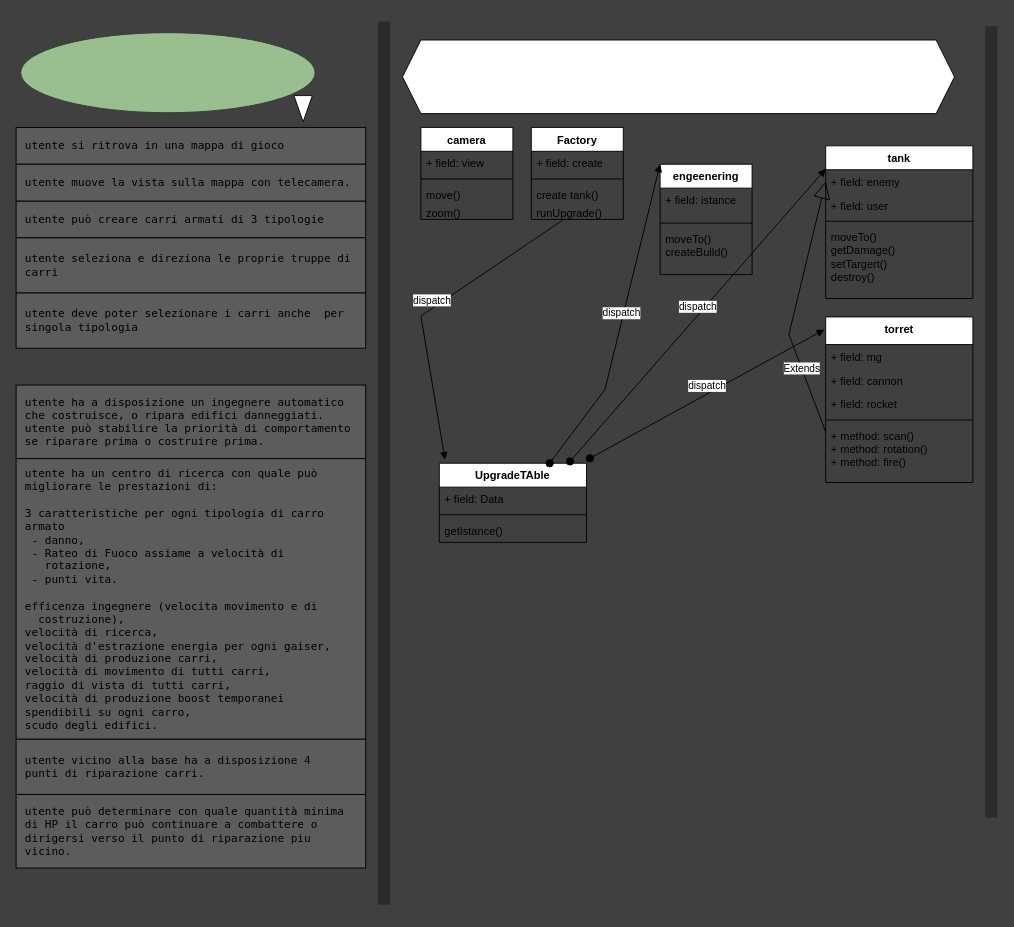
This 1014x927 diagram has some shape labels left out. Each missing label, with the centre of its shape:
_wzs2024Game RTS_ user case: point (167, 72)
Object Model: point (678, 76)
